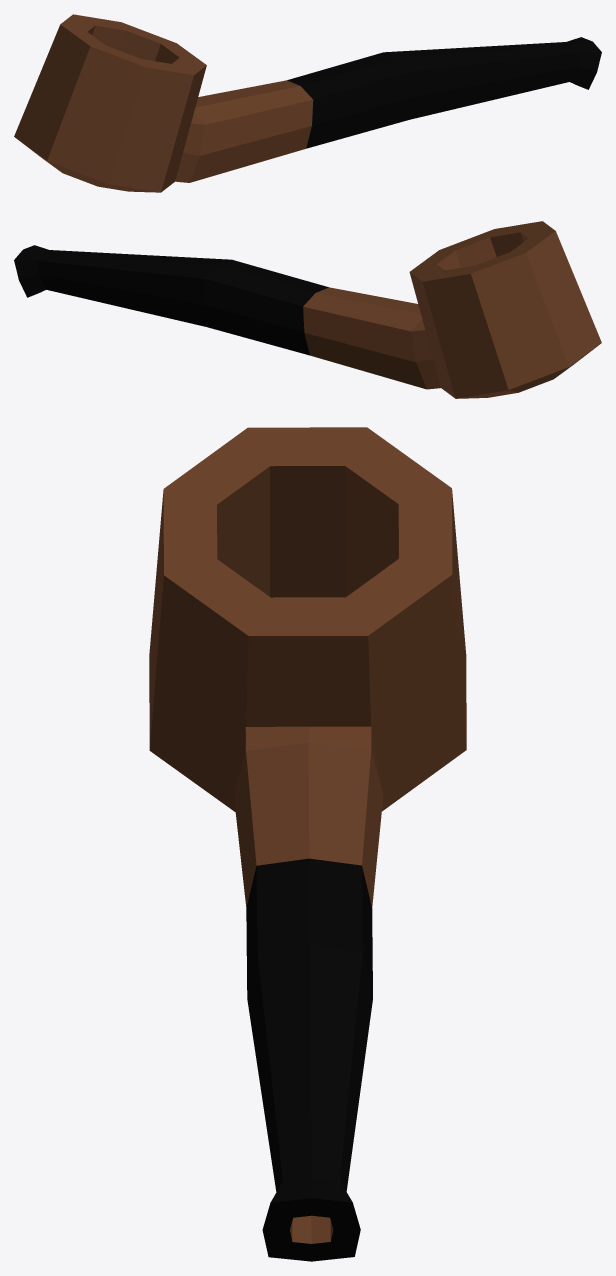
File: Wood Pipe.obj
The picture shows the model from 3 angles, top to bottom: view 1: azimuth 30°, elevation 25°; view 2: azimuth 150°, elevation 25°; view 3: azimuth 270°, elevation 25°; orthographic projection. The views are drawn at different scales.
Parts seen in each view (by area): view 1: WoodPipe_Wood, WoodPipe_Black; view 2: WoodPipe_Wood, WoodPipe_Black; view 3: WoodPipe_Wood, WoodPipe_Black.
Boxes of the visible parts, left/top/right/bottom form: WoodPipe_Wood: left=14, top=14, right=412, bottom=192; WoodPipe_Black: left=384, top=37, right=601, bottom=119; WoodPipe_Wood: left=204, top=221, right=601, bottom=398; WoodPipe_Black: left=14, top=245, right=231, bottom=326; WoodPipe_Wood: left=149, top=427, right=466, bottom=1243; WoodPipe_Black: left=247, top=944, right=372, bottom=1261.
Bounding box in the file's own units: 0.15 × 0.0441 × 0.0367.
